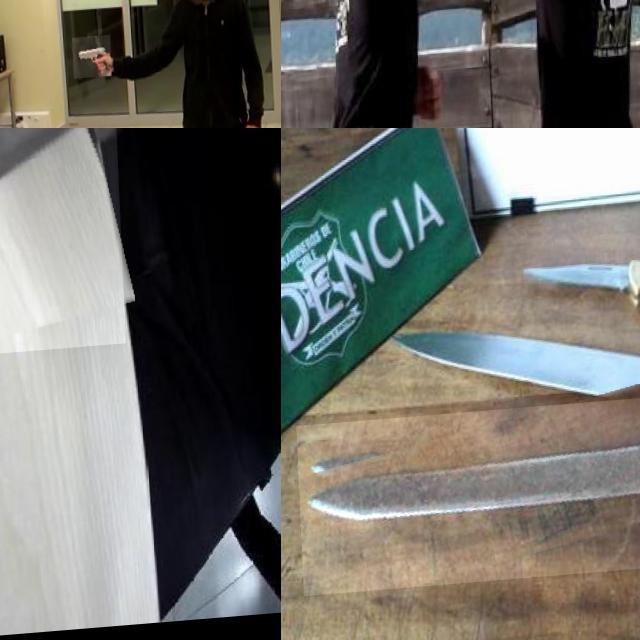-: (292, 403, 640, 597), (0, 128, 157, 370), (382, 309, 640, 454), (513, 252, 640, 322), (412, 0, 501, 62)
gun-knife-thesis - v11 Yolov5 augmented: (68, 38, 108, 82)
